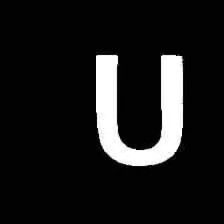LTR_U: (87, 45, 192, 173)
